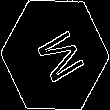M_SW: (26, 23, 84, 87)
